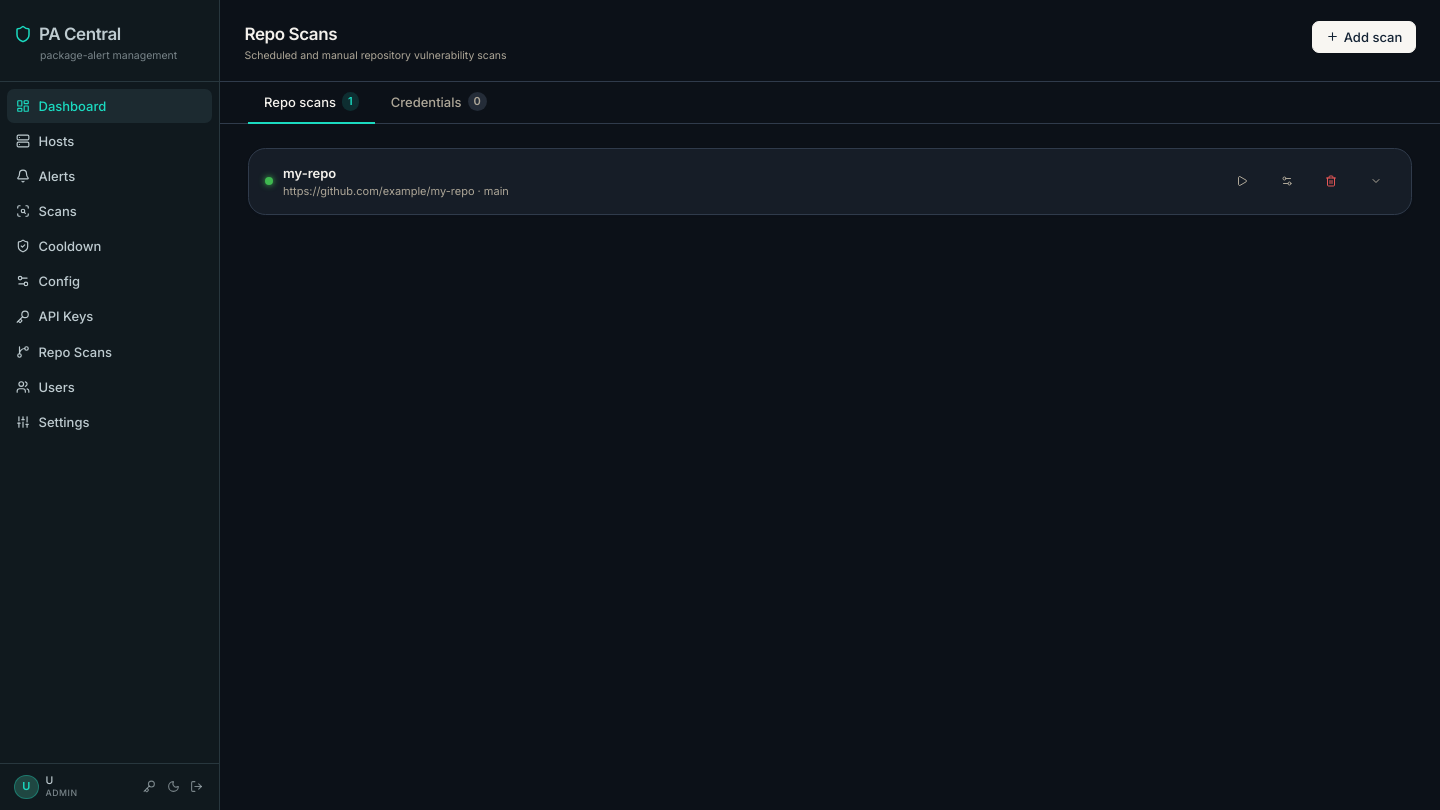
Test: RepoScans settings edit — save failure › keeps the settings panel open and shows the error when save fails
The image size is (1440, 810).
Click the button named "open settings for my-repo": (1287, 181) [1268, 166, 1306, 197]
(page scrolled)
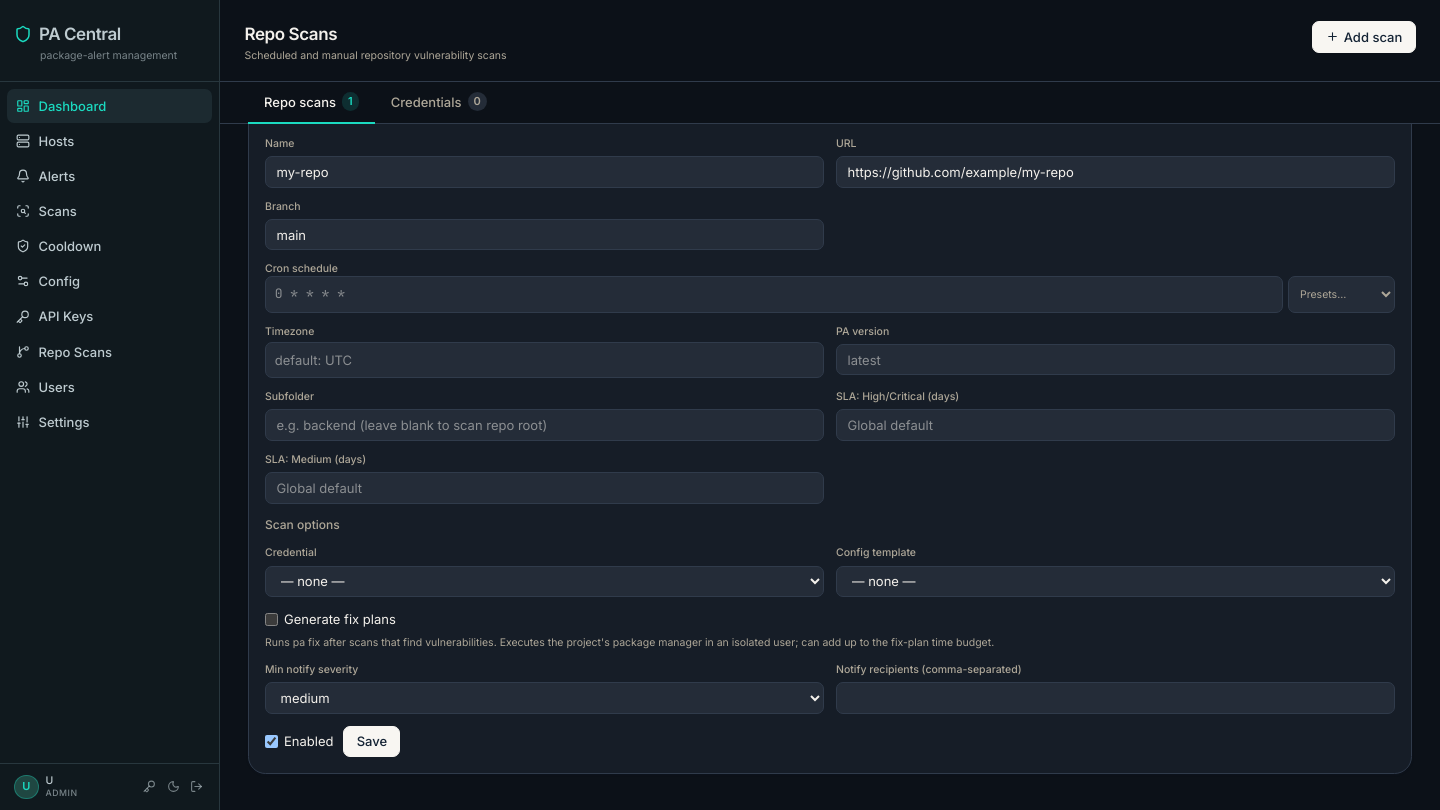
Click the button "Save": (372, 741) [344, 726, 400, 757]
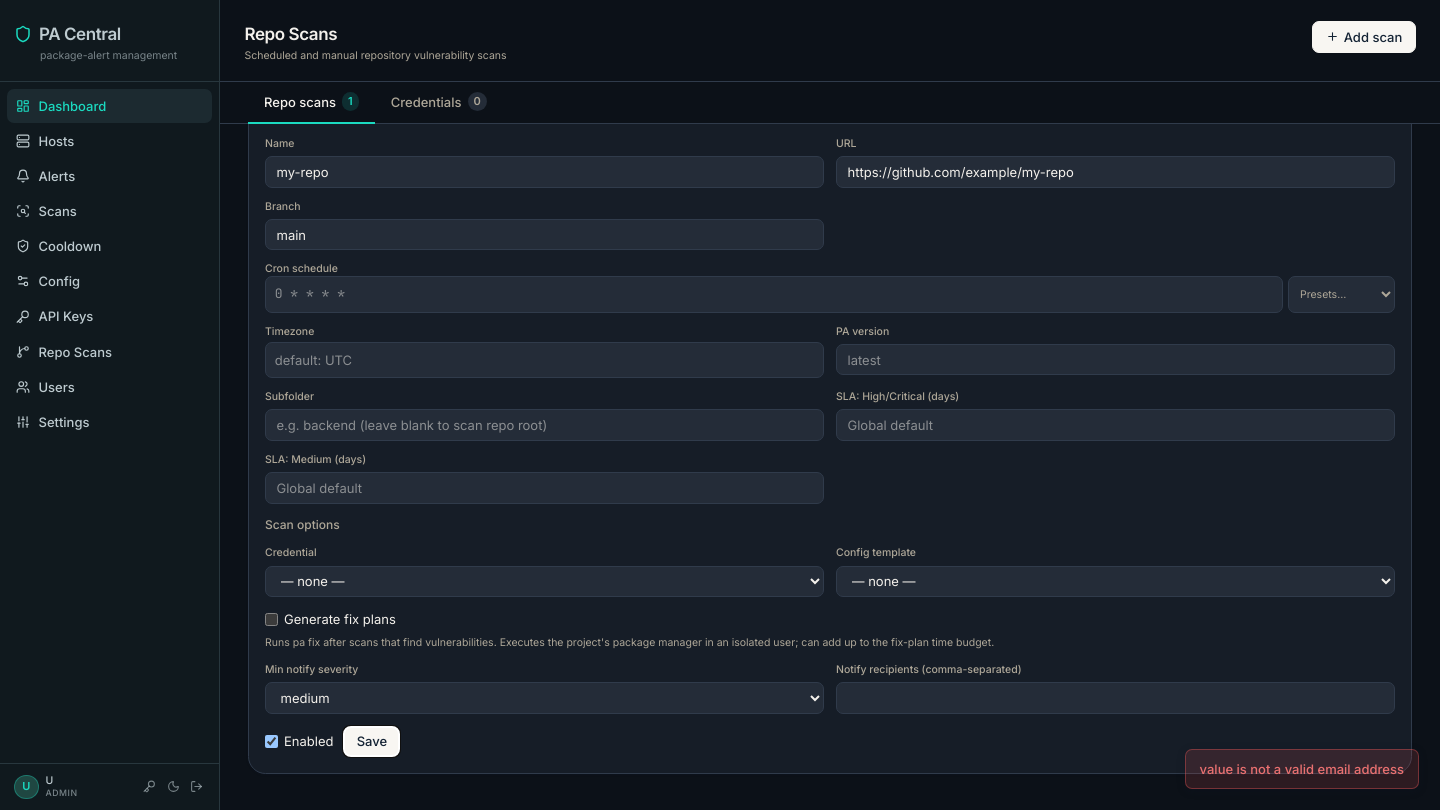
Result: the button "Save" is shown at [344, 726, 400, 757]
Result: the text "value is not a valid email address" is shown at [1185, 749, 1419, 789]
